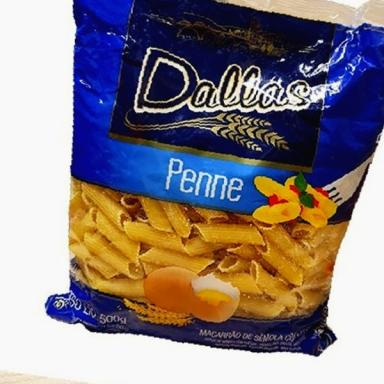pasta package: (47, 0, 383, 355)
